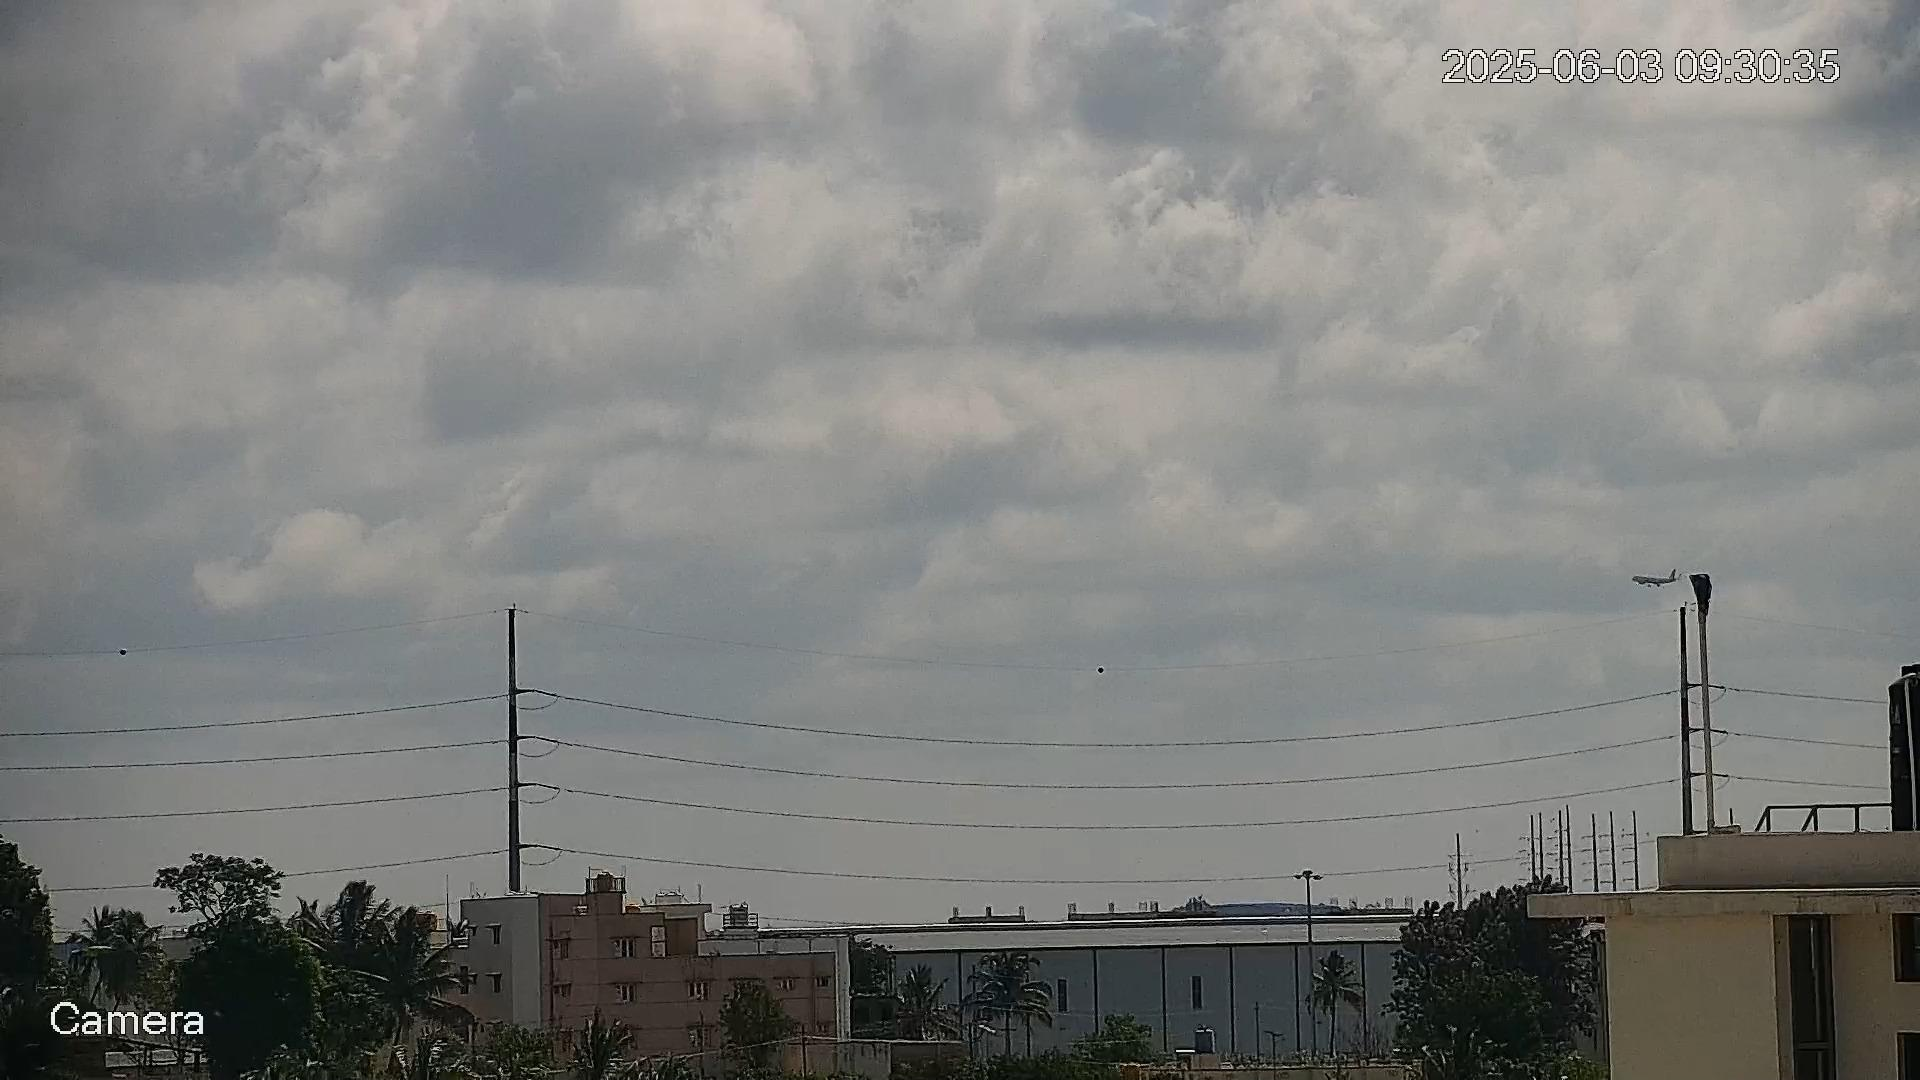Aircraft: (1631, 570, 1680, 588)
